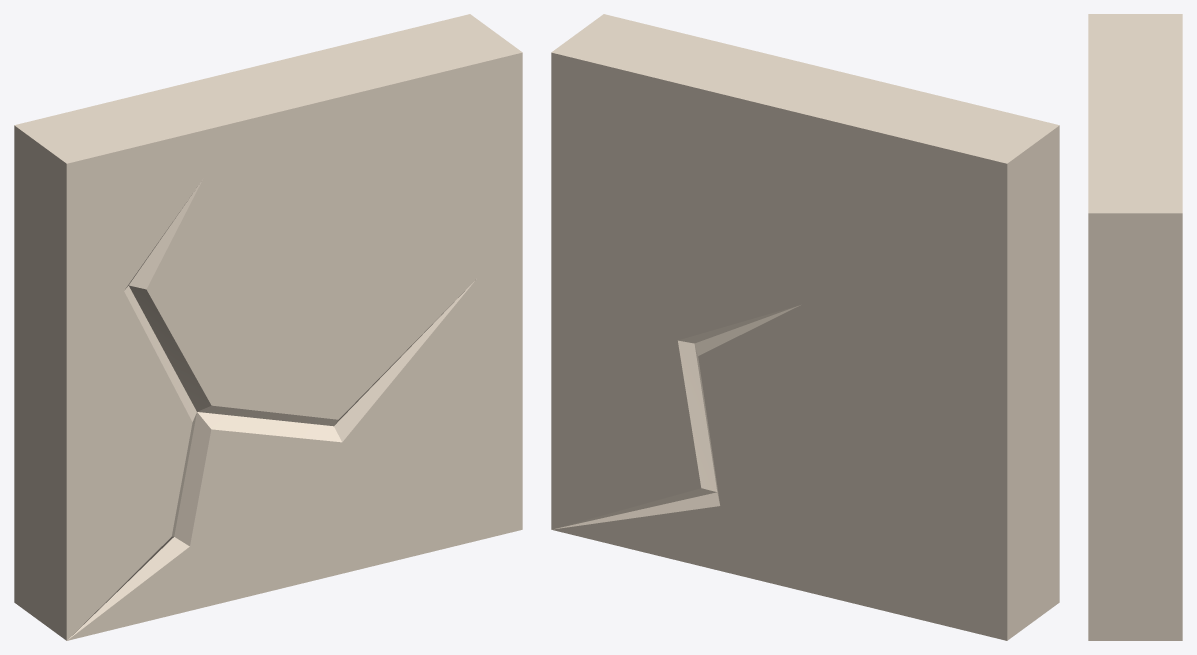
Rendered from Wall_Ruined_Full_Cracked_2.glb.
The picture shows the model from 3 angles, left to right: view 1: azimuth 30°, elevation 25°; view 2: azimuth 150°, elevation 25°; view 3: azimuth 270°, elevation 25°; orthographic projection. The views are drawn at different scales.
Visible parts, largest first — view 1: Wall_Ruined_Full_Cracked_2; view 2: Wall_Ruined_Full_Cracked_2; view 3: Wall_Ruined_Full_Cracked_2.
Boxes of the visible parts, x1,y1,x2,y2 form: Wall_Ruined_Full_Cracked_2: (14,14,522,640); Wall_Ruined_Full_Cracked_2: (551,14,1059,640); Wall_Ruined_Full_Cracked_2: (1088,14,1182,640).
Bounding box in the file's own units: 1 × 1 × 0.2.
